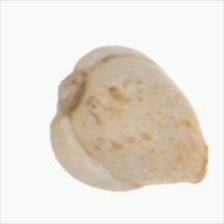L3: (125, 173, 208, 192)
L4: (51, 45, 208, 192)
